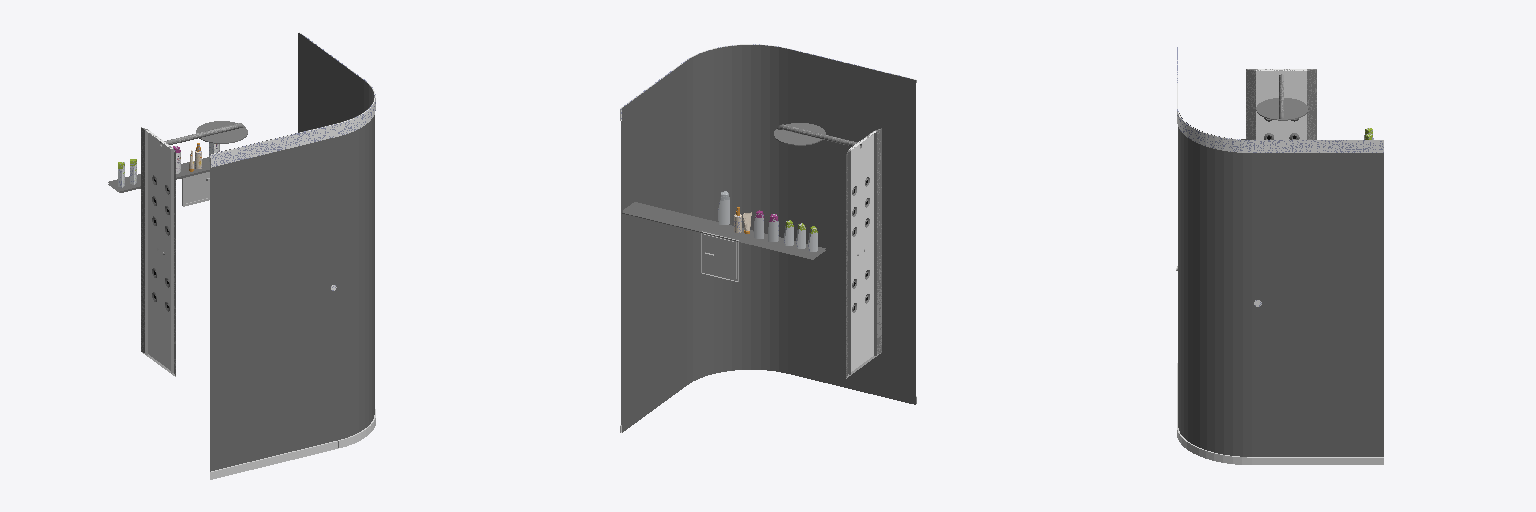
The picture shows the model from 3 angles: view 1: azimuth 30°, elevation 25°; view 2: azimuth 150°, elevation 25°; view 3: azimuth 270°, elevation 25°; orthographic projection.
Visible parts, largest first — view 1: Mesh35 Model, Mesh36 Model, Mesh34 Model, Mesh37 Model; view 2: Mesh34 Model, Mesh36 Model, Mesh37 Model, Mesh35 Model; view 3: Mesh35 Model, Mesh36 Model, Mesh37 Model.
Boxes of the visible parts, <box> form: Mesh35 Model: <box>210,32,375,479</box>; Mesh36 Model: <box>141,123,244,376</box>; Mesh34 Model: <box>108,33,373,447</box>; Mesh37 Model: <box>196,121,247,143</box>; Mesh34 Model: <box>622,45,915,432</box>; Mesh36 Model: <box>777,124,881,378</box>; Mesh37 Model: <box>774,123,825,145</box>; Mesh35 Model: <box>620,44,916,432</box>; Mesh35 Model: <box>1176,47,1383,464</box>; Mesh36 Model: <box>1246,69,1316,139</box>; Mesh37 Model: <box>1256,98,1308,120</box>.
Bounding box in the file's own units: 547 × 871 × 508.
Materials: 21 (5 with a texture image).